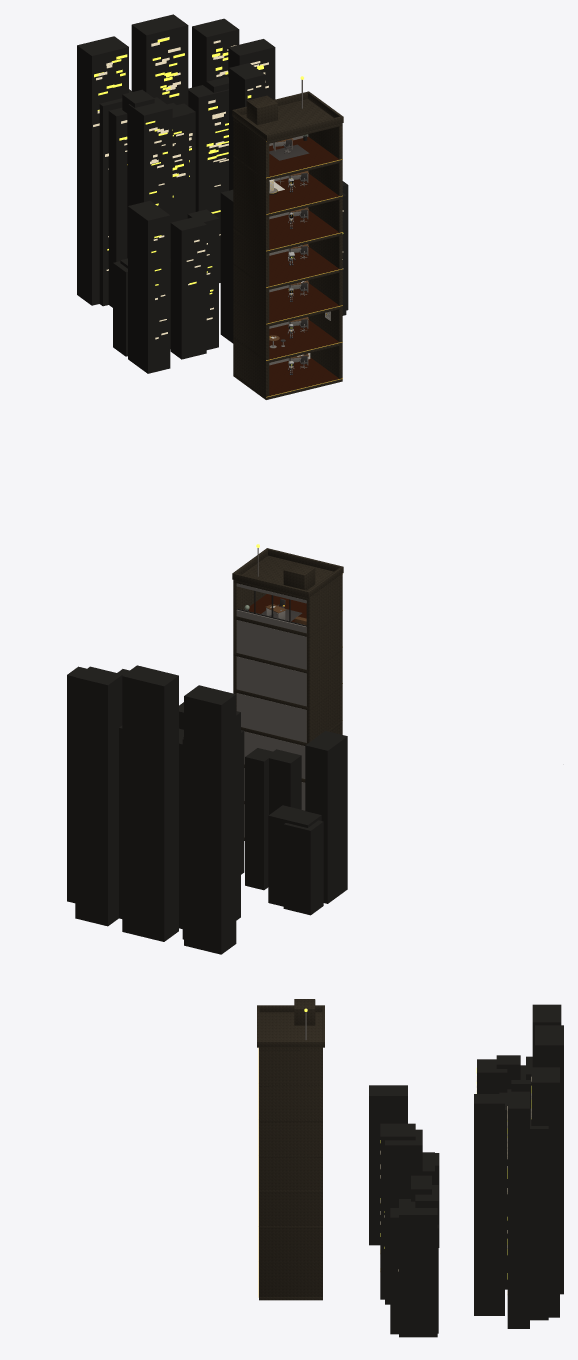
File: desktop.glb
The picture shows the model from 3 angles, top to bottom: view 1: azimuth 30°, elevation 25°; view 2: azimuth 150°, elevation 25°; view 3: azimuth 270°, elevation 25°; orthographic projection. The views are drawn at different scales.
Visible parts, largest first — view 1: tower; view 2: tower; view 3: tower.
Part boxes in pixels (box(x1,y1,x2,y2)): tower: box(77, 14, 348, 399); tower: box(67, 544, 347, 954); tower: box(257, 999, 563, 1337).
Size of the model in its own units: 23.01 by 23.94 by 42.01.
41 materials, 7 textured.
